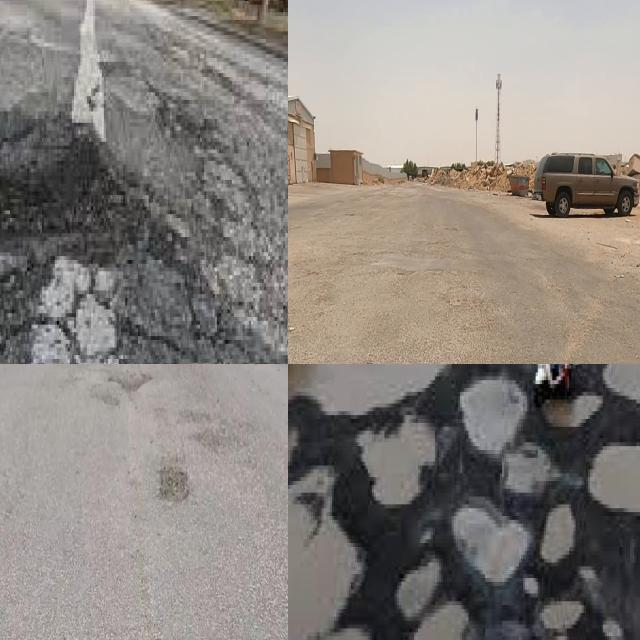Pothole: (0, 111, 191, 268), (288, 473, 359, 640), (357, 416, 436, 505), (450, 500, 529, 586), (461, 379, 527, 455), (588, 442, 640, 517), (503, 442, 560, 494), (396, 558, 441, 619), (543, 393, 602, 426), (541, 600, 584, 640), (113, 364, 154, 400), (425, 605, 466, 640), (157, 461, 189, 504), (541, 600, 584, 629), (502, 620, 531, 640), (602, 620, 623, 640), (288, 427, 298, 465), (578, 566, 597, 580), (524, 578, 538, 596)
